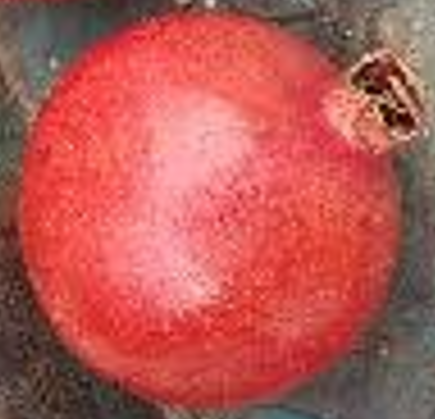pomegranate_A: (16, 8, 430, 413)
